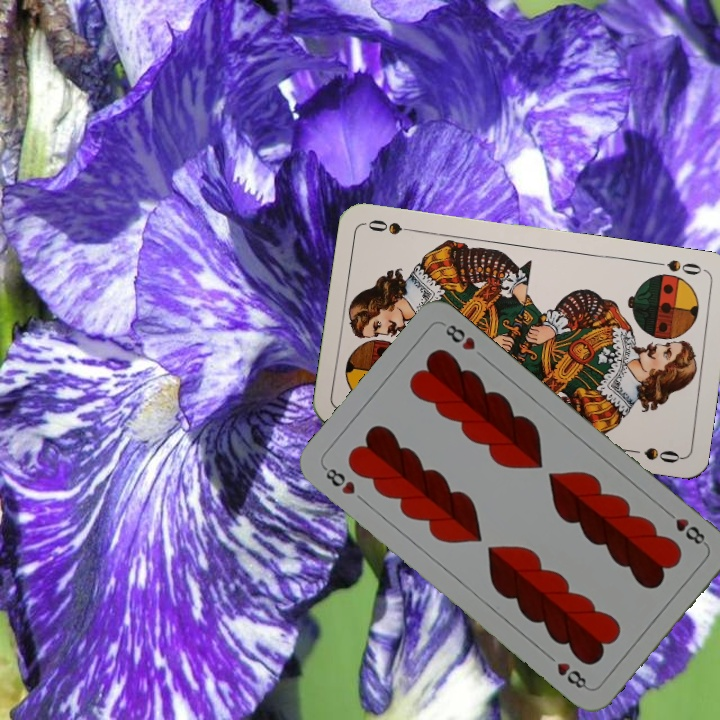H8: (661, 506, 710, 549), (319, 462, 358, 498)
SO: (651, 255, 710, 278)
